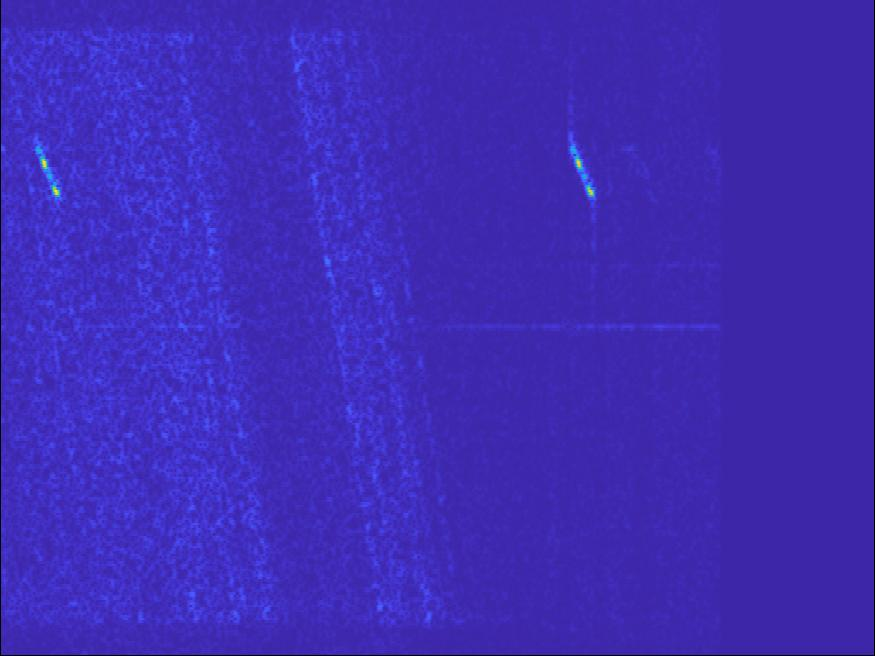Interference: (50, 295, 343, 363), (128, 218, 244, 291), (204, 380, 340, 437), (542, 226, 666, 271)
